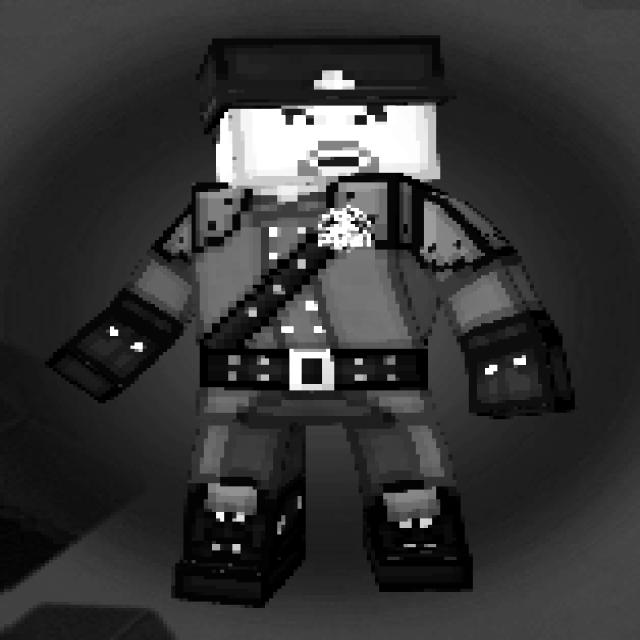Head: (193, 39, 454, 183)
Player: (47, 38, 581, 604)
